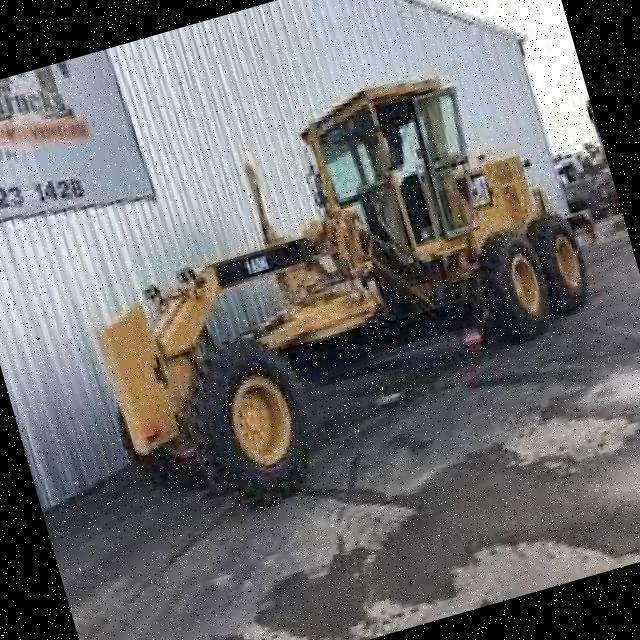Grader: (27, 27, 628, 571)
